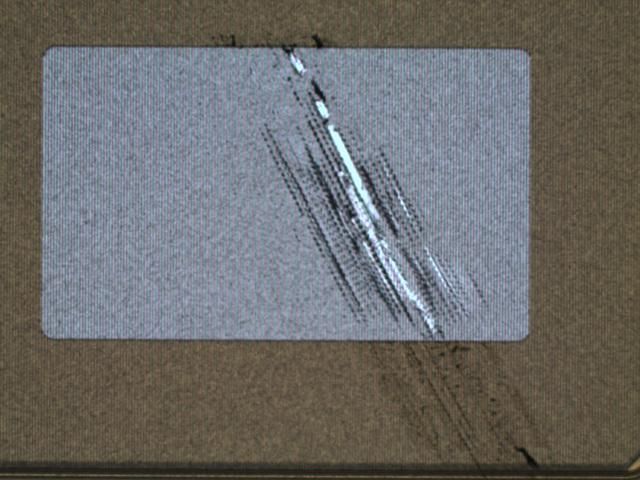SCRATCH: (204, 31, 570, 480)
